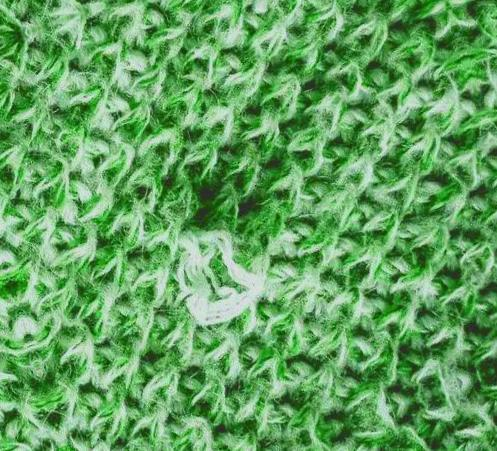snag: (173, 224, 269, 336)
